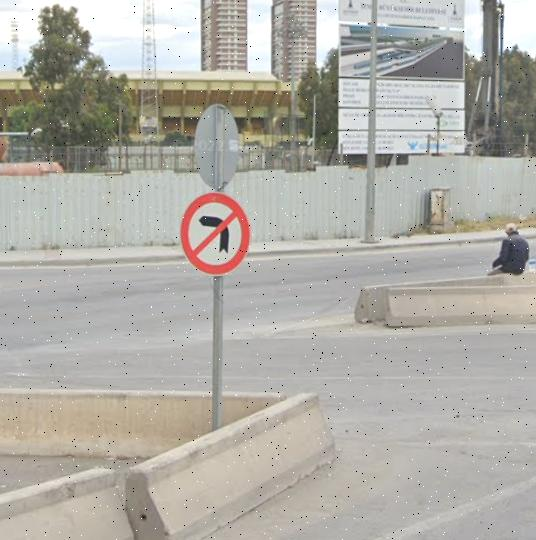leftturnsareforbidden: (182, 190, 247, 274)
